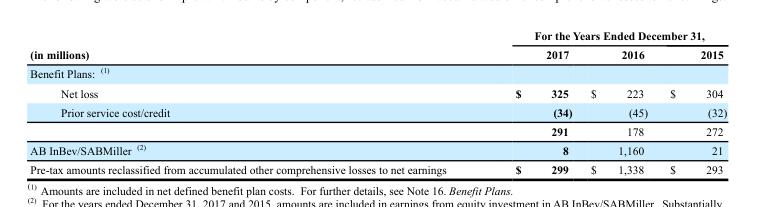table: (29, 28, 726, 175)
table column: (29, 28, 480, 175), (480, 28, 580, 175), (580, 28, 658, 175), (658, 28, 726, 175)
table column header: (29, 28, 726, 63)
table projected row header: (29, 63, 726, 83)
table row: (29, 63, 726, 83), (29, 139, 726, 159), (29, 44, 726, 63), (29, 83, 726, 102), (29, 102, 726, 121), (29, 121, 726, 139), (29, 28, 726, 44), (29, 159, 726, 175)
table spanning cell: (29, 28, 480, 63), (480, 28, 726, 44)
